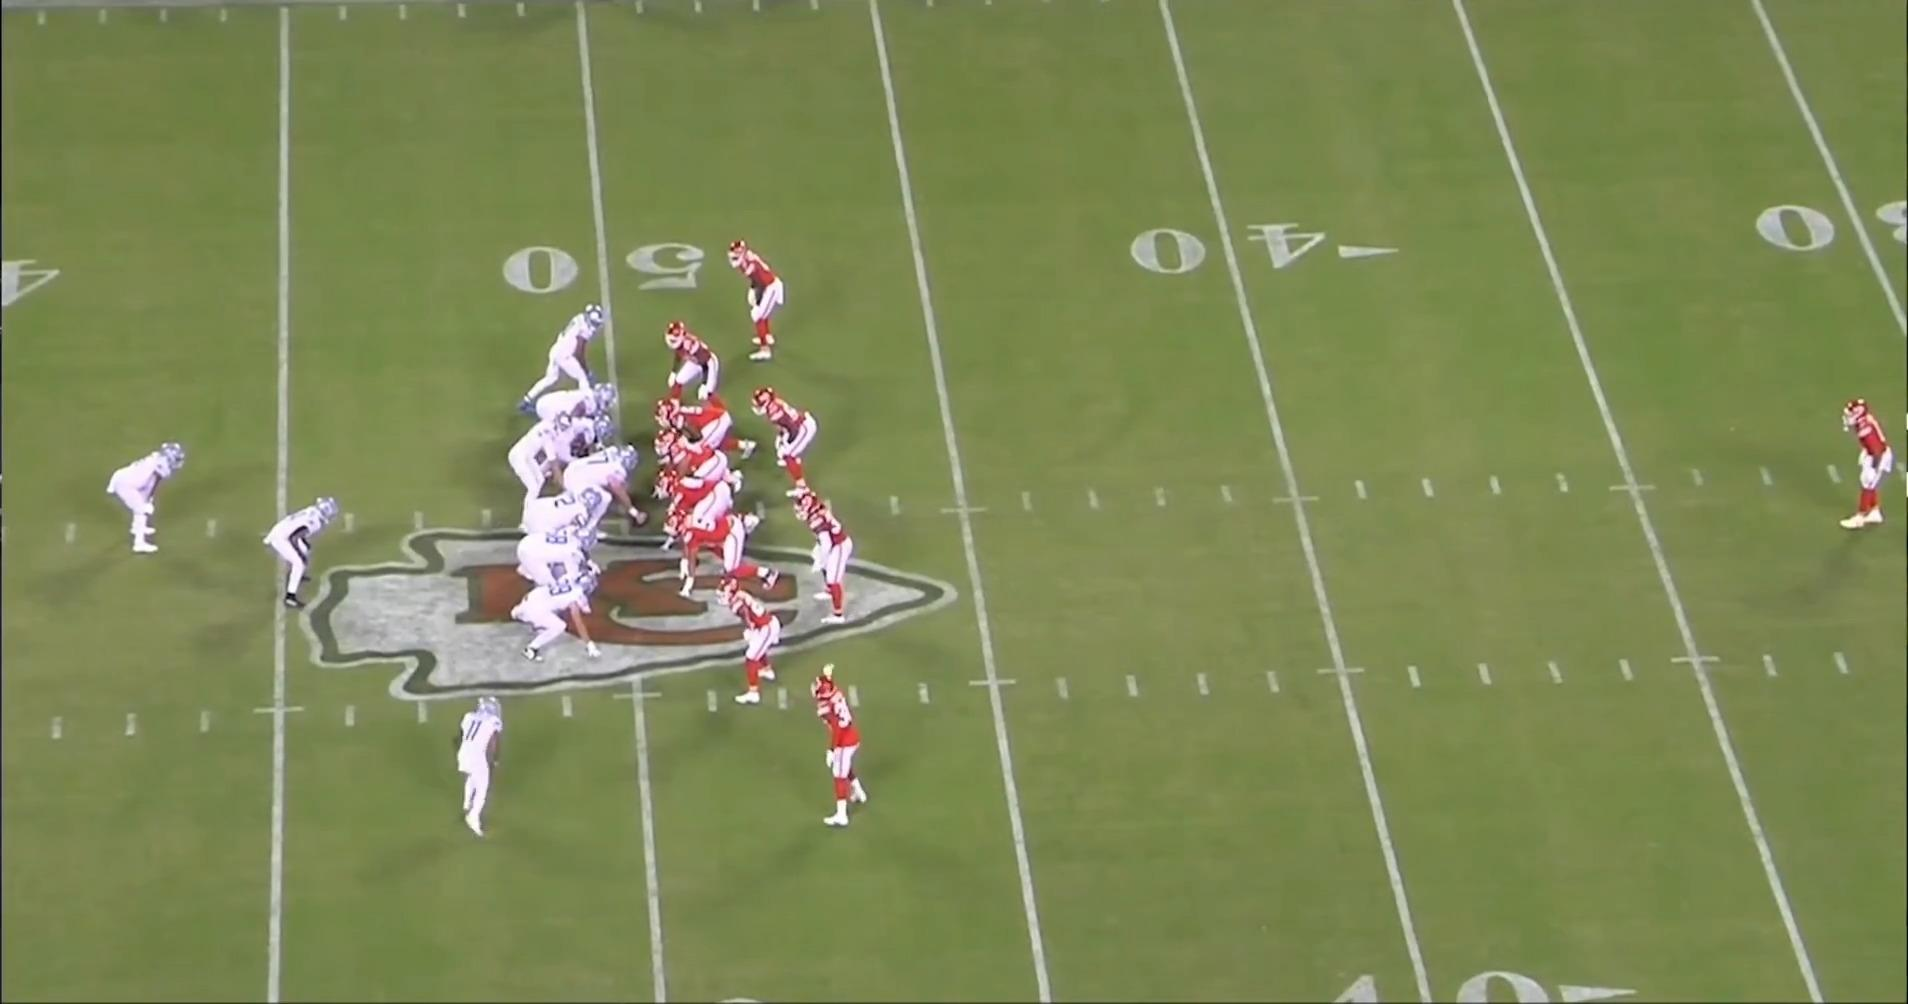player: (111, 436, 199, 562), (665, 506, 784, 598), (519, 304, 613, 418), (809, 671, 873, 837), (799, 484, 867, 631), (263, 492, 345, 613), (508, 564, 602, 667), (516, 523, 608, 627), (1829, 392, 1894, 534), (553, 446, 643, 544), (445, 692, 500, 845), (730, 232, 793, 363), (659, 469, 746, 558), (751, 386, 821, 495), (719, 581, 777, 704), (503, 411, 568, 511), (665, 398, 765, 461), (652, 428, 745, 492), (668, 324, 734, 413), (525, 483, 610, 546), (533, 381, 619, 431), (544, 414, 616, 462)
